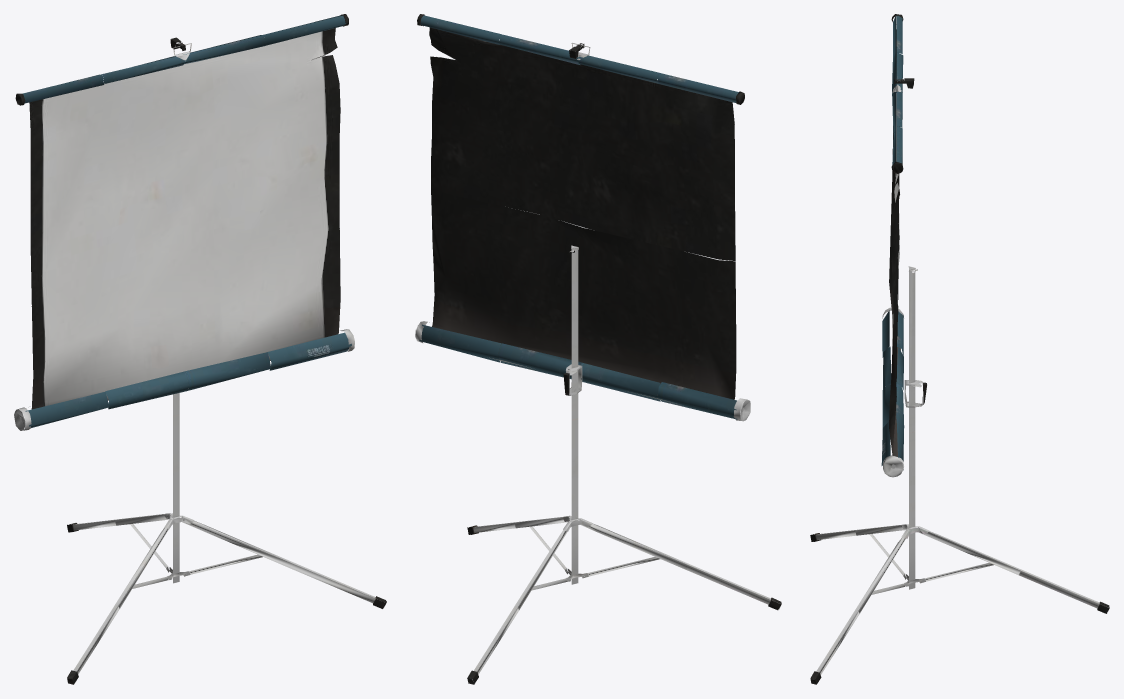
File: projector_screen.glb
The picture shows the model from 3 angles, left to right: view 1: azimuth 30°, elevation 25°; view 2: azimuth 150°, elevation 25°; view 3: azimuth 270°, elevation 25°; orthographic projection. The views are drawn at different scales.
Visible parts, largest first — view 1: projector_screen; view 2: projector_screen; view 3: projector_screen.
Part boxes in pixels (x1,y1,x2,y2): projector_screen: (14,14,386,684); projector_screen: (415,14,781,684); projector_screen: (810,14,1109,684).
Bounding box in the file's own units: 1.09 × 1.8 × 0.9162.
2 materials, 2 textured.
